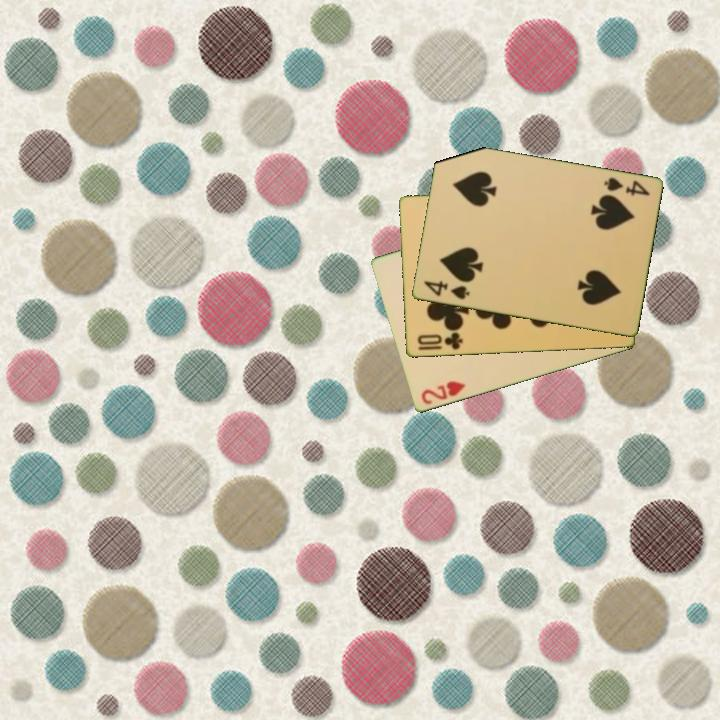10c: (414, 329, 465, 353)
2h: (417, 377, 469, 408)
4s: (420, 277, 472, 303), (600, 174, 652, 199)
